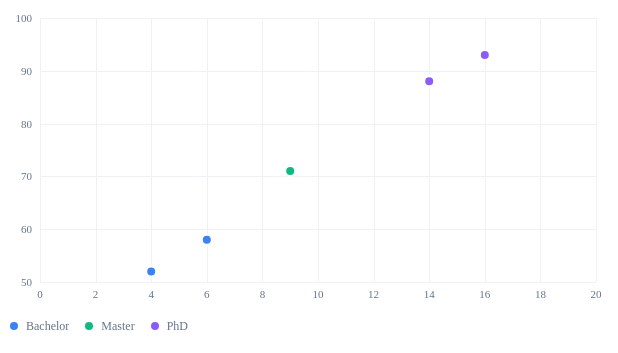
Test case: ScatterChart › toggles groups from the legend
Later steps or results of the test are not shown.
Click the button "Master": (109, 326) [79,316,139,337]
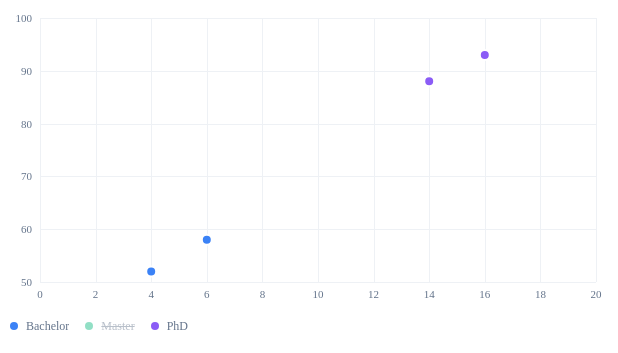
Now the button "Master" is not pressed, box [79,316,139,337]
